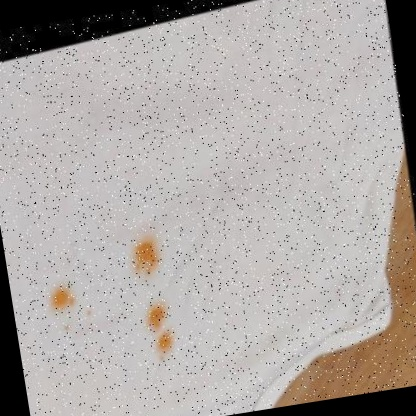kimchi: (134, 294, 191, 362), (125, 232, 163, 283), (40, 277, 82, 317), (72, 301, 99, 325), (60, 323, 71, 335)
